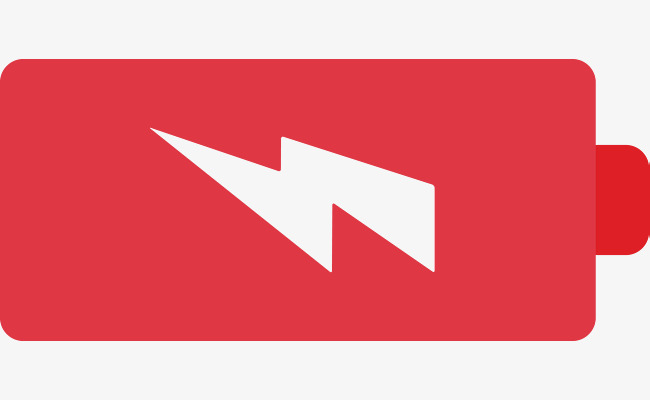charging sign: (1, 56, 650, 358)
